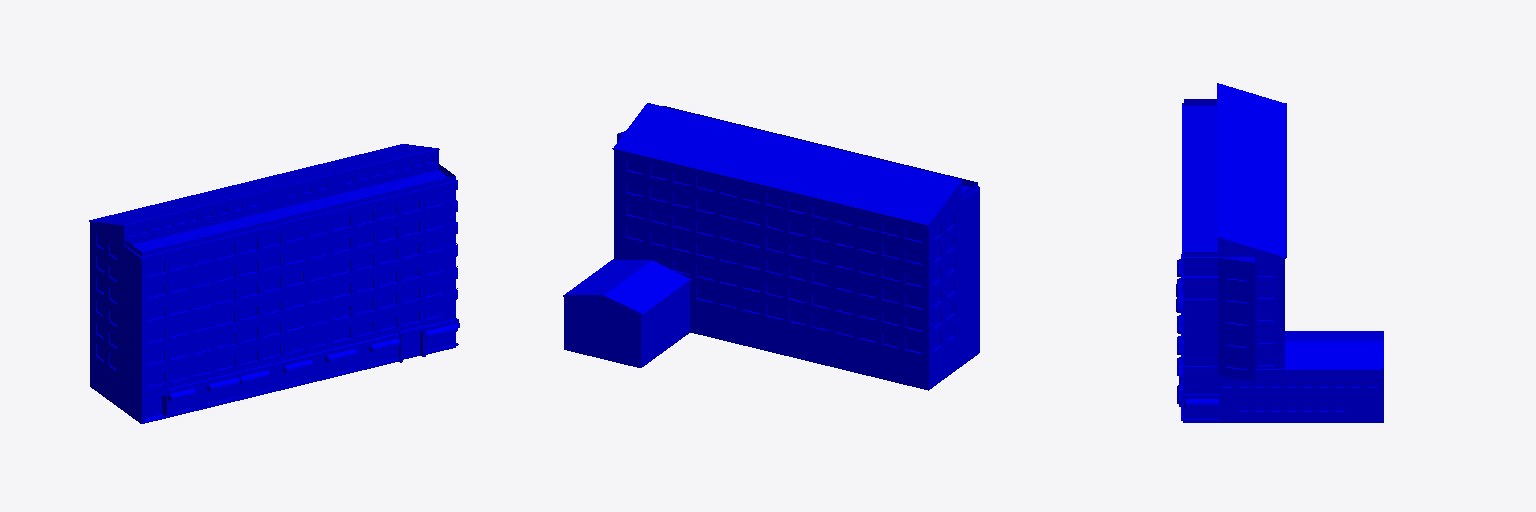
Rendered from isokatu_10.obj.
The picture shows the model from 3 angles: view 1: azimuth 30°, elevation 25°; view 2: azimuth 150°, elevation 25°; view 3: azimuth 270°, elevation 25°; orthographic projection.
Parts seen in each view (by area): view 1: Object_1; view 2: Object_1; view 3: Object_1.
Boxes of the visible parts, x1,y1,x2,y2 form: Object_1: [89, 144, 459, 423]; Object_1: [563, 103, 979, 390]; Object_1: [1176, 83, 1383, 422].
Bounding box in the file's own units: 47.68 × 25.92 × 26.16.